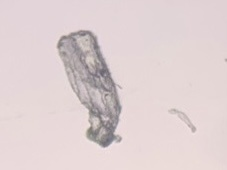microplastic: (56, 30, 128, 153), (168, 106, 199, 137)
